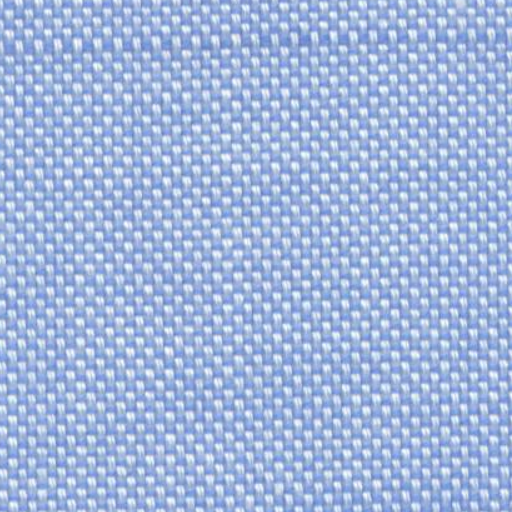TuoSha: (12, 18, 502, 82)
